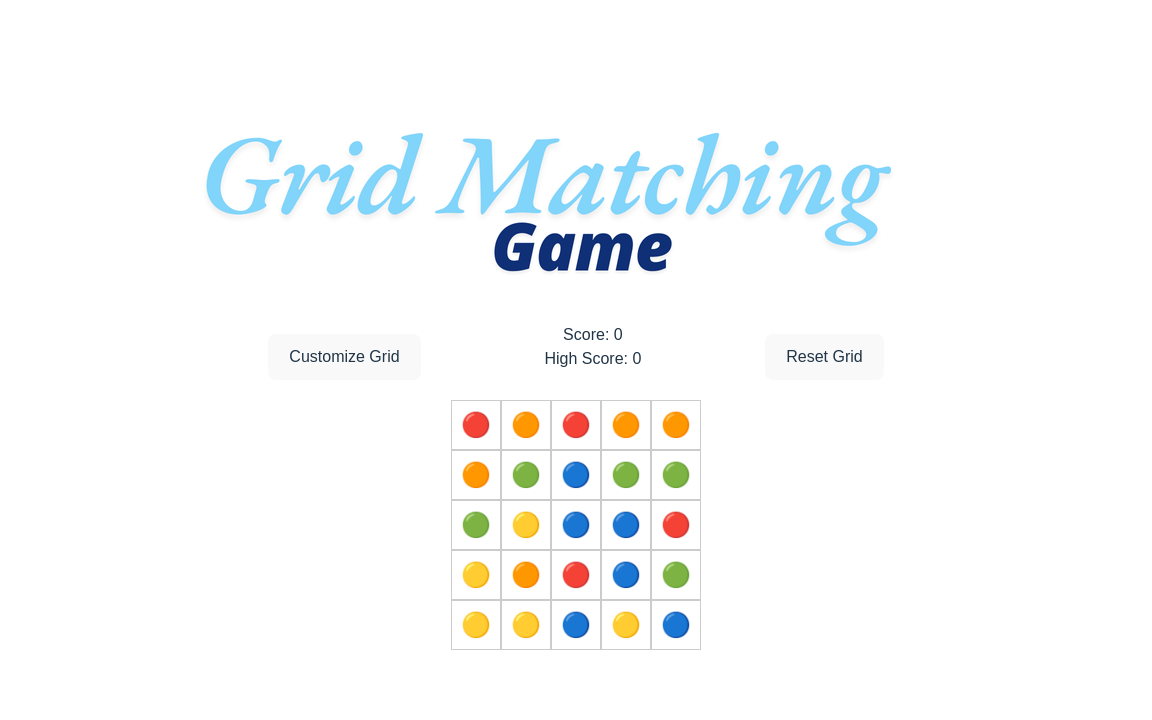
Test case: App Component › updates grid size when submitting modal
The width and height of the screenshot is (1152, 720).
Click the button "Customize Grid" at (344, 356), box 268,334 -> 421,380
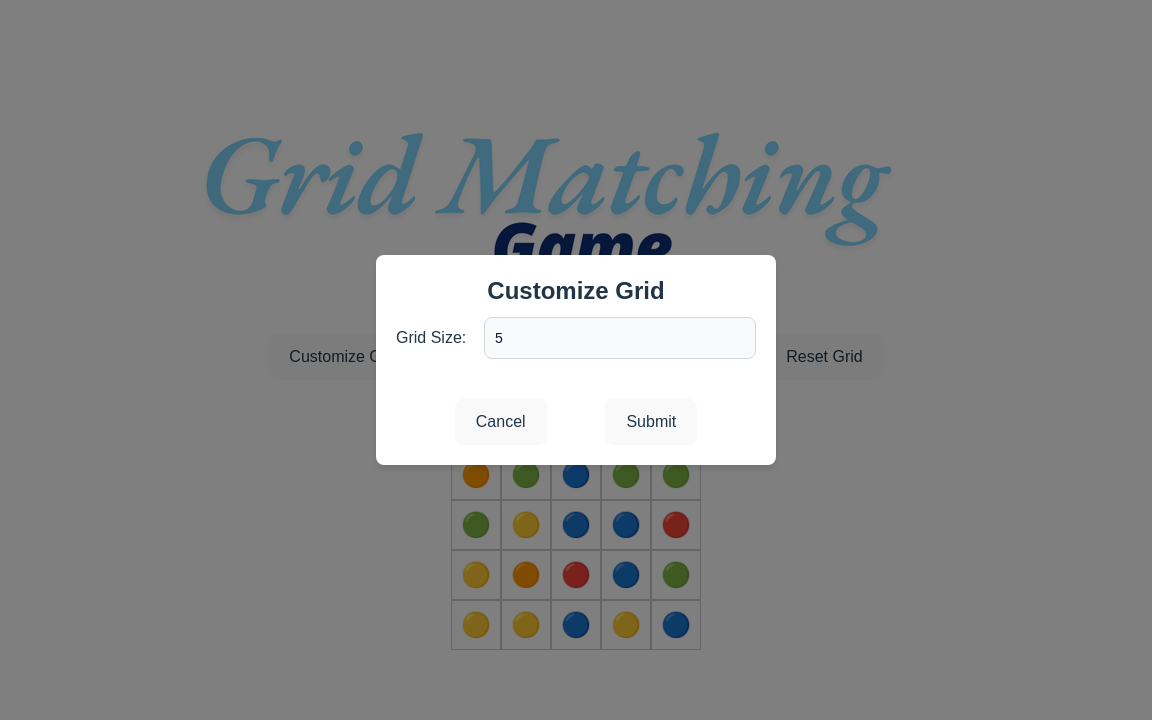
Replace the text in the number field labelled "Grid Size:" with "6" at (620, 338), box 484,317 -> 756,359
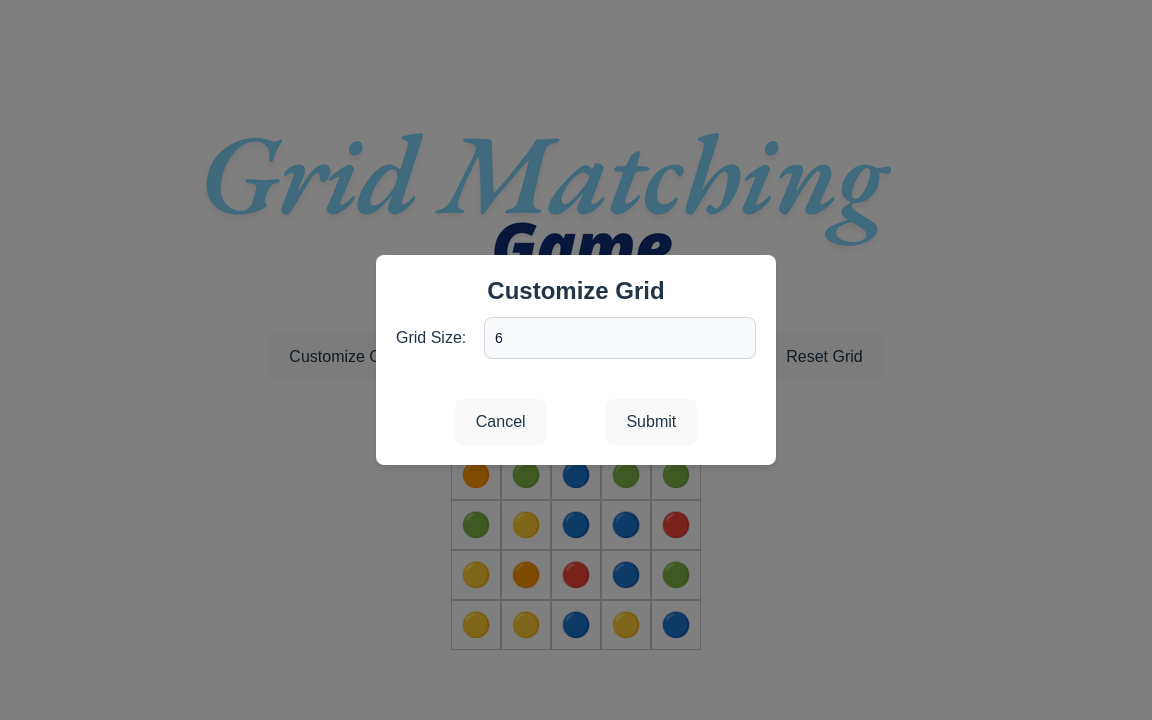
Click the button "Submit" at (651, 422), box 605,399 -> 697,445
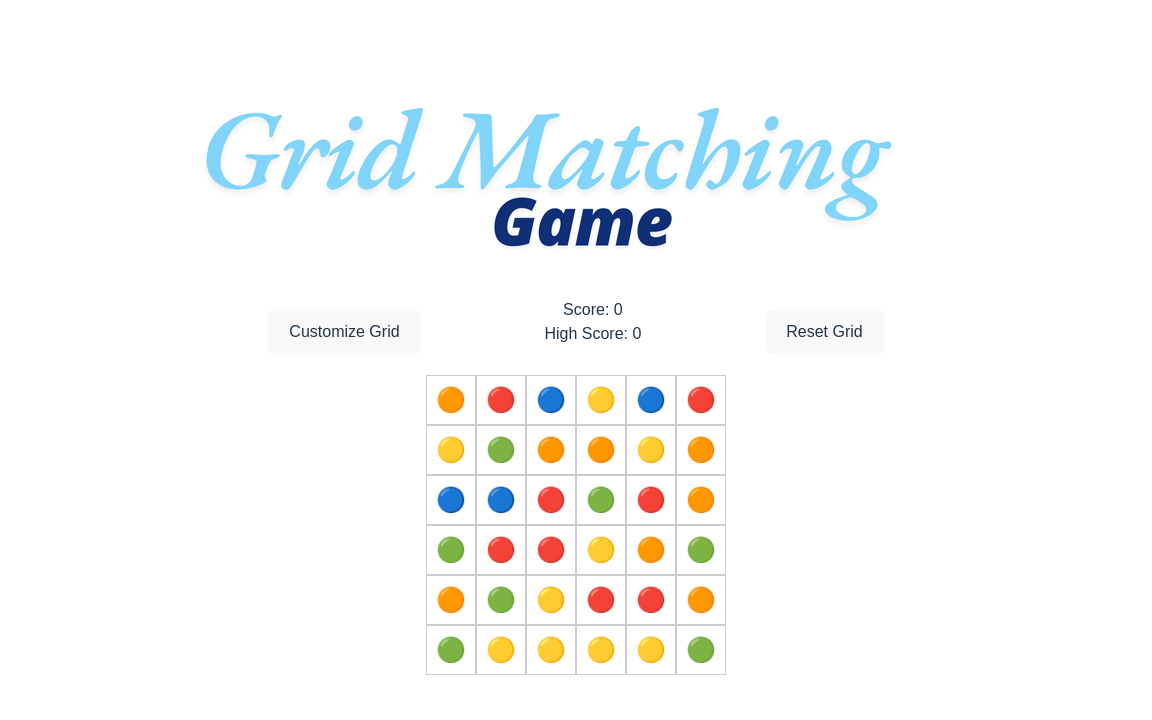
Expected: the number of elements with class "cell" is 36
